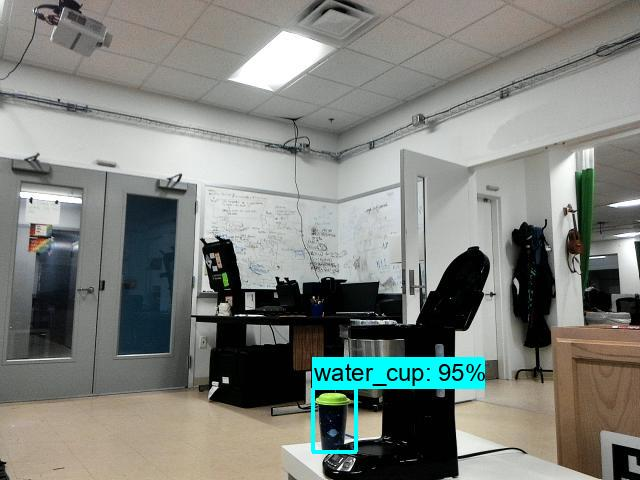water_cup: (313, 388, 357, 453)
